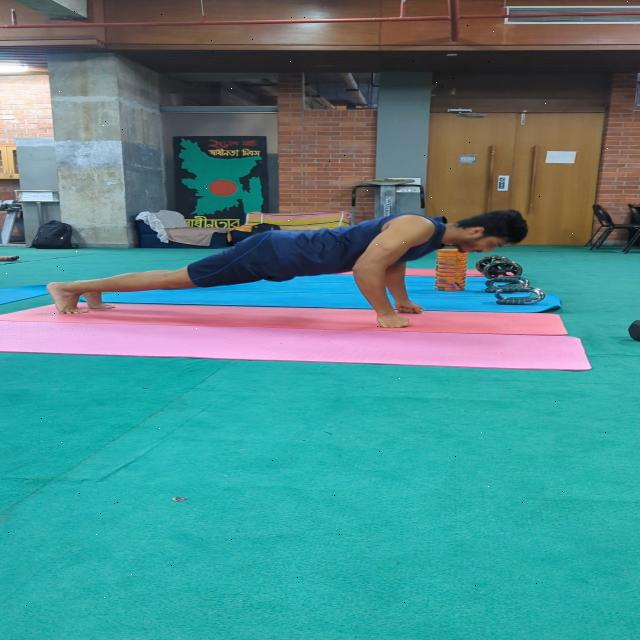Normal_PushUps: (39, 207, 557, 360)
